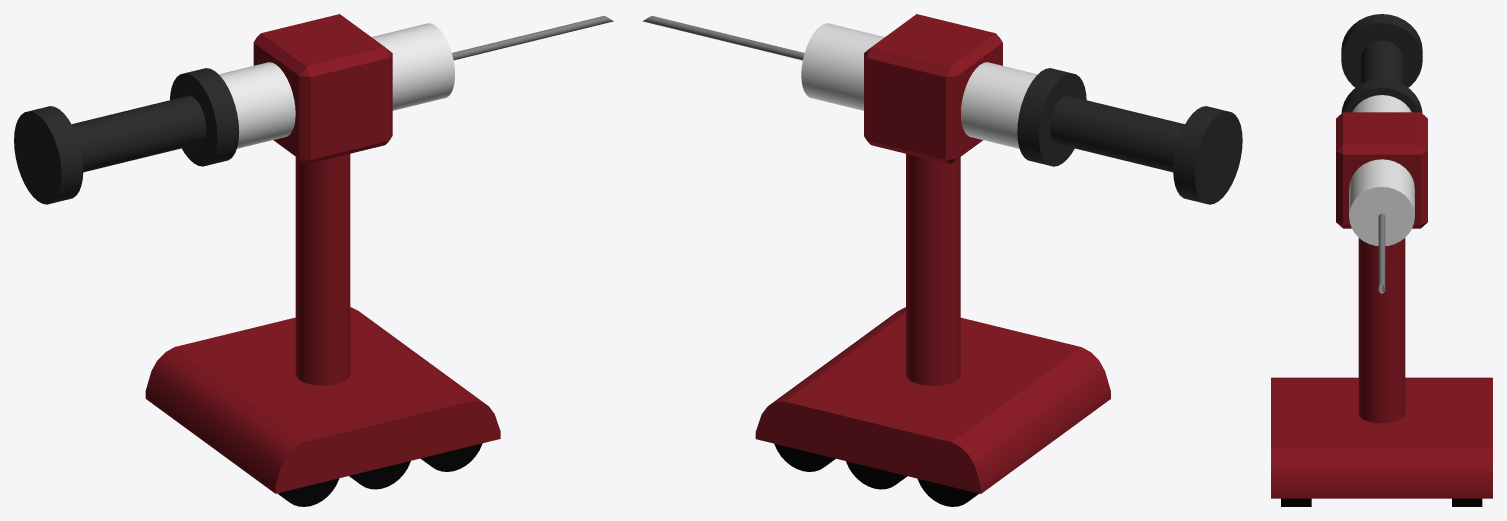
File: needle_bot.dae
3 views of the same model, side by side, from view 1: azimuth 30°, elevation 25°; view 2: azimuth 150°, elevation 25°; view 3: azimuth 270°, elevation 25° (orthographic). The views are drawn at different scales.
Parts seen in each view (by area): view 1: Cube, Cylinder.005, Cube.001, Circle, Cylinder, Cylinder.002, Cylinder.003; view 2: Cube, Cylinder.005, Cube.001, Circle, Cylinder, Cylinder.002, Cylinder.003; view 3: Cube, Circle, Cube.001, Cylinder.005, Cylinder, Cylinder.003, Cylinder.002.
Boxes of the visible parts, x1,y1,x2,y2 form: Cube: (145, 307, 500, 493); Cylinder.005: (14, 68, 239, 204); Cube.001: (253, 14, 392, 164); Circle: (295, 154, 350, 385); Cylinder: (219, 23, 454, 148); Cylinder.002: (277, 443, 482, 506); Cylinder.003: (452, 16, 613, 60); Cube: (755, 307, 1110, 493); Cylinder.005: (1017, 68, 1242, 204); Cube.001: (864, 14, 1002, 164); Circle: (906, 154, 960, 385); Cylinder: (801, 23, 1037, 148); Cylinder.002: (774, 443, 978, 506); Cylinder.003: (642, 16, 804, 60); Cube: (1271, 377, 1492, 498); Circle: (1358, 238, 1405, 423); Cube.001: (1336, 112, 1427, 228); Cylinder.005: (1341, 14, 1422, 112); Cylinder: (1349, 95, 1414, 245); Cylinder.003: (1378, 213, 1385, 293); Cylinder.002: (1281, 498, 1482, 506).
Bounding box in the file's own units: 5.12 × 2 × 3.44.
